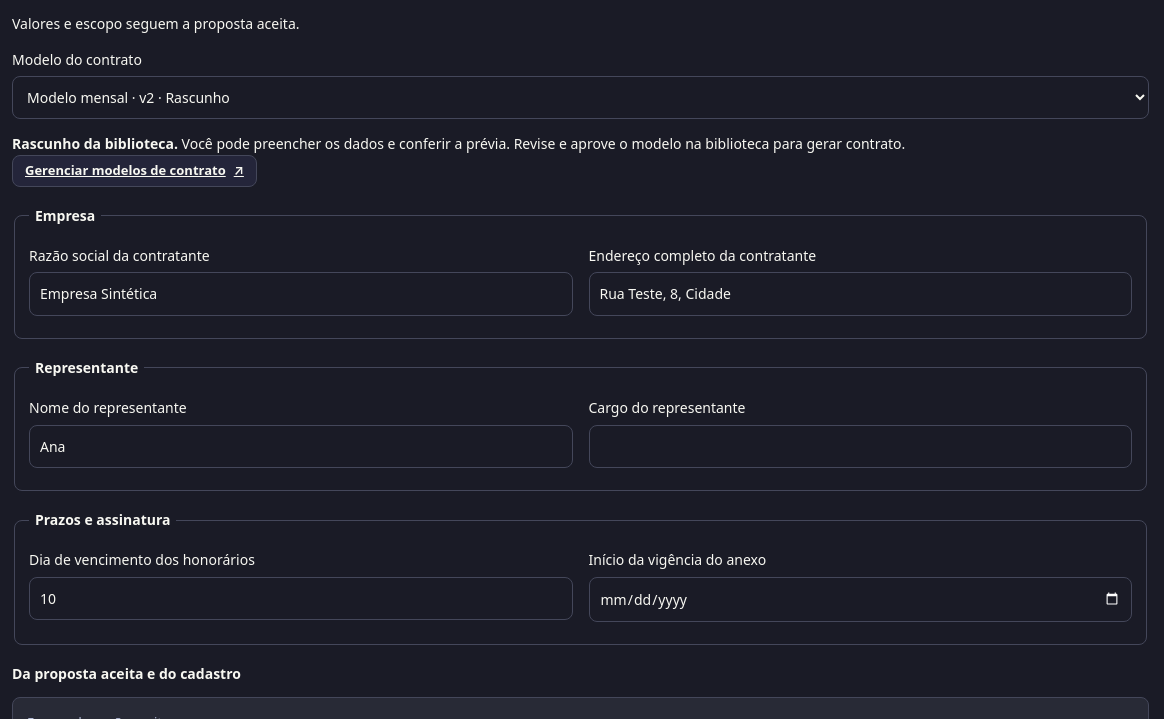
Test: modelo em rascunho permite preencher e conferir a prévia, mas não gera contrato
The image size is (1164, 719).
Expected: the message shows "Rascunho da biblioteca", [12,134,178,153]
Expected: the field labelled "Razão social da contratante" holds "Empresa Sintética", [29,272,572,316]
Type "2026-09-21" into the date field labelled "Início da vigência do anexo" at (860, 599), box [588,577,1132,622]
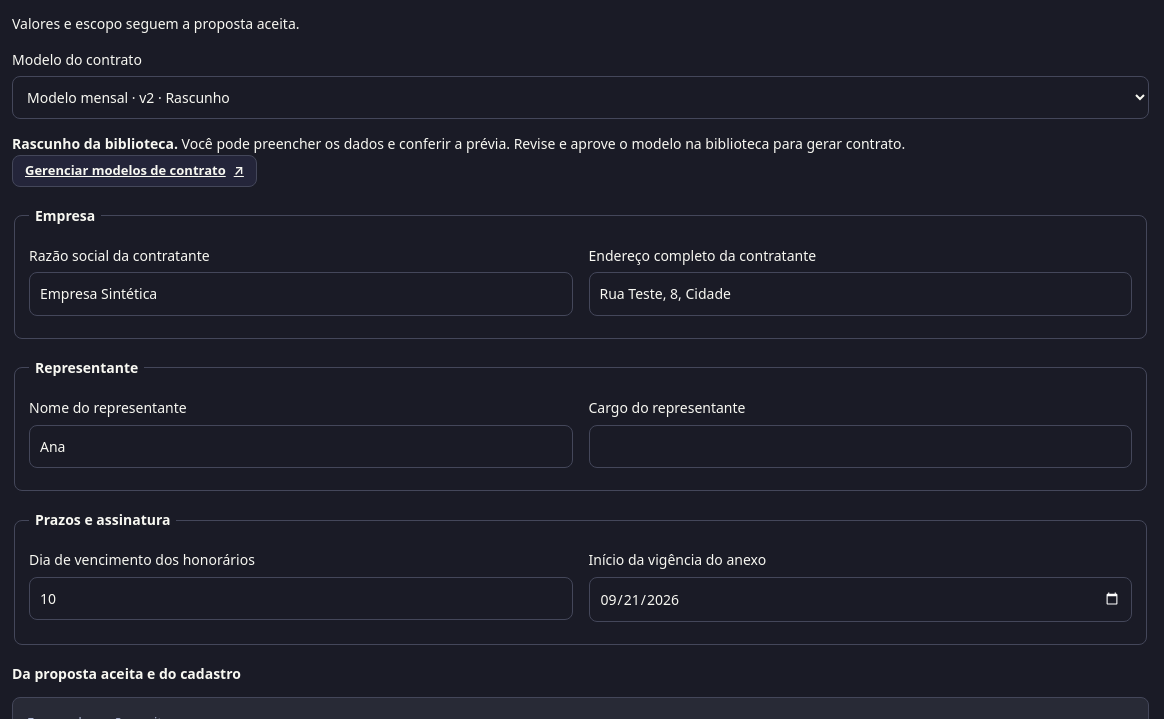
Replace the text in the field labelled "Nome do representante" with "Nome revisado" at (301, 446), box [29,424,572,468]
(page scrolled)
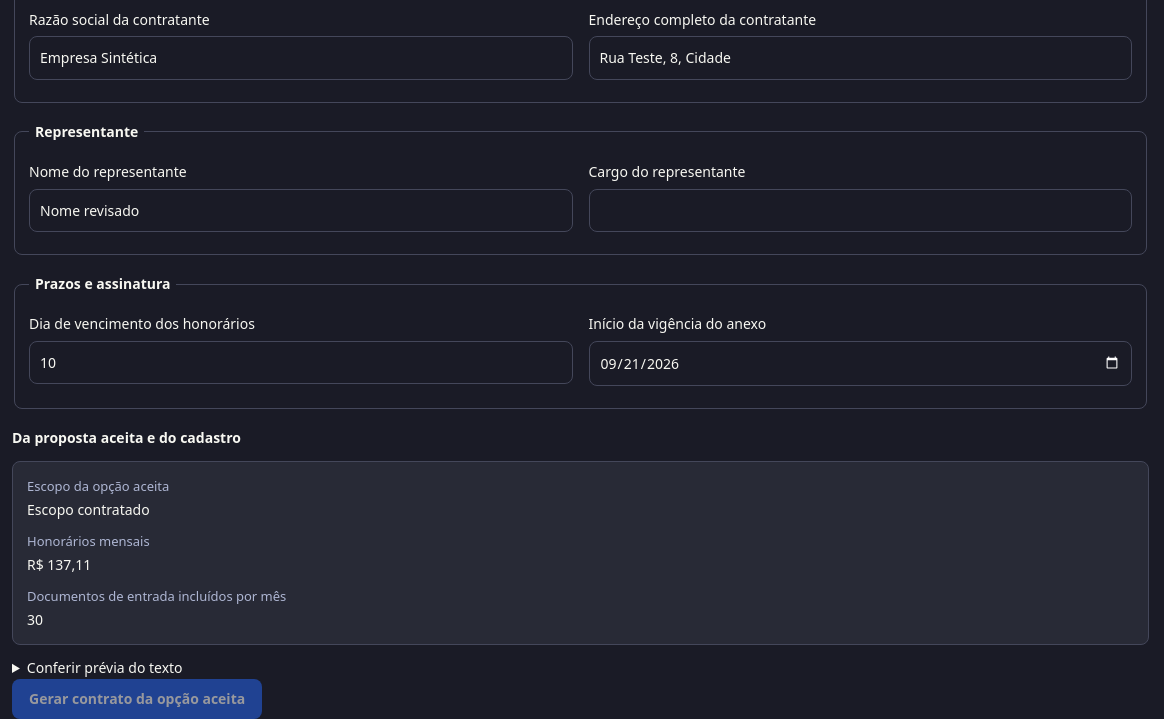
Click the heading "Conferir prévia do texto" at (105, 668), box [27,658,183,677]
(page scrolled)
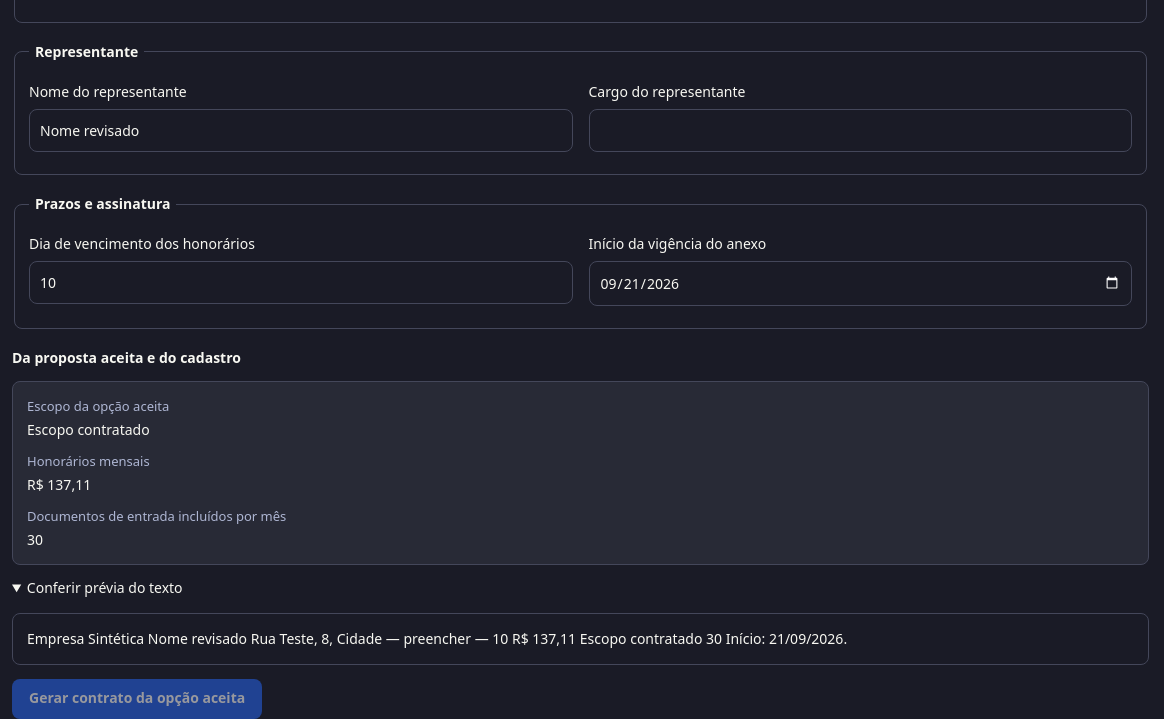
Expected: the button "Gerar contrato da opção aceita" is disabled, [12,679,262,718]
Now the text "Início: 21/09/2026." shows "Nome revisado", box [27,629,847,648]
